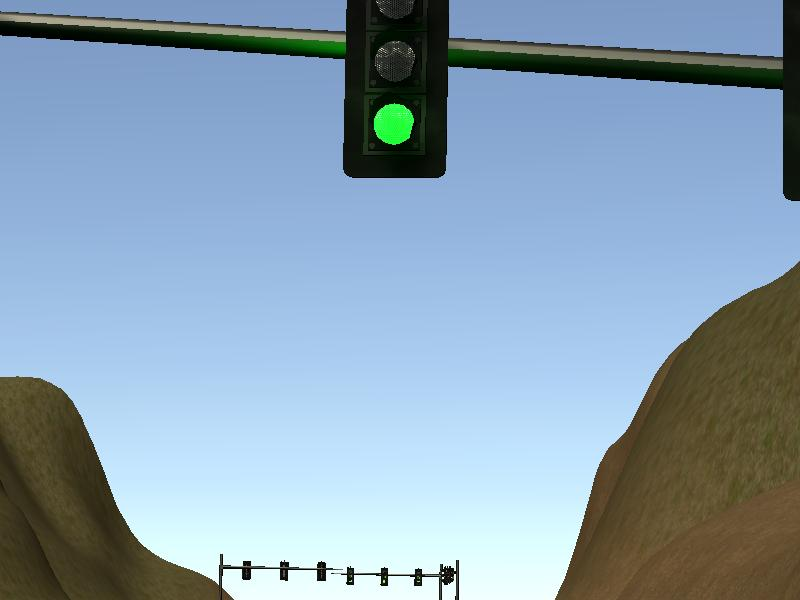green: (341, 1, 454, 181)
